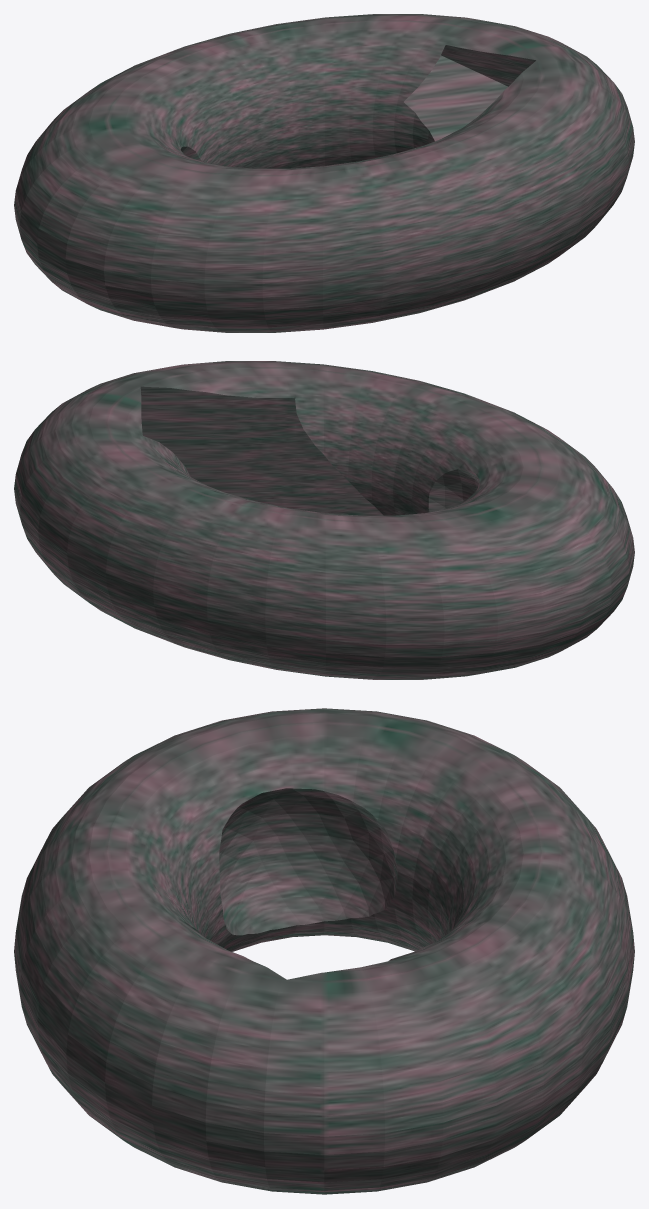
The picture shows the model from 3 angles, top to bottom: view 1: azimuth 30°, elevation 25°; view 2: azimuth 150°, elevation 25°; view 3: azimuth 270°, elevation 25°; orthographic projection. The views are drawn at different scales.
Parts seen in each view (by area): view 1: geometry_0; view 2: geometry_0; view 3: geometry_0.
Part boxes in pixels (x1,y1,x2,y2): geometry_0: [14, 14, 634, 332]; geometry_0: [14, 361, 634, 679]; geometry_0: [14, 708, 634, 1194].
Size of the model in its own units: 1.99 by 0.4967 by 1.41.
Materials: 1 (1 with a texture image).
